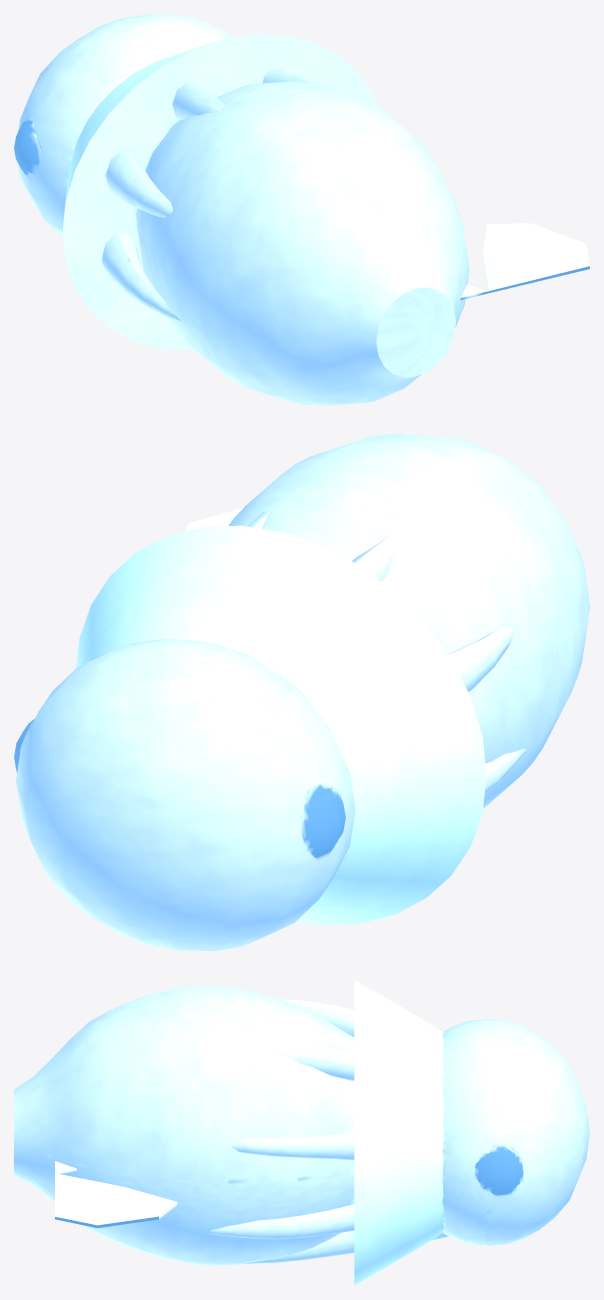
Rendered from grimpoteuthis_sp.glb.
3 views of the same model, one above another, from view 1: azimuth 30°, elevation 25°; view 2: azimuth 150°, elevation 25°; view 3: azimuth 270°, elevation 25° (orthographic). The views are drawn at different scales.
Visible parts, largest first — view 1: grimpoteuthis_sp; view 2: grimpoteuthis_sp; view 3: grimpoteuthis_sp.
Boxes of the visible parts, box(x1,y1,x2,y2) form: grimpoteuthis_sp: box(14, 14, 589, 405); grimpoteuthis_sp: box(14, 434, 589, 950); grimpoteuthis_sp: box(14, 979, 589, 1285).
Bounding box in the file's own units: 0.4958 × 0.3827 × 0.7315.
2 materials, 2 textured.
